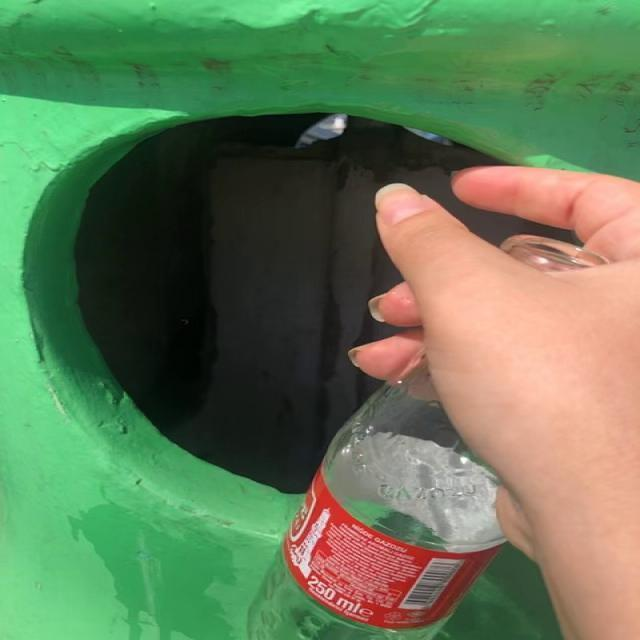Glass: (249, 360, 505, 640), (504, 235, 609, 274)
